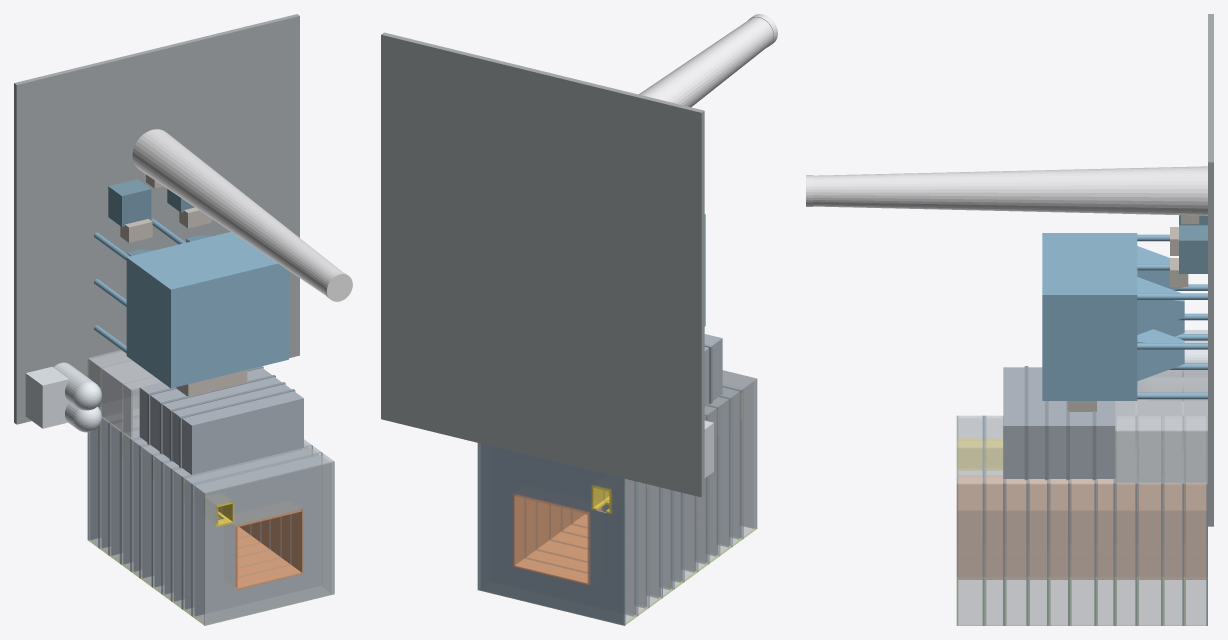
The model's file is bolier.glb.
The picture shows the model from 3 angles, left to right: view 1: azimuth 30°, elevation 25°; view 2: azimuth 150°, elevation 25°; view 3: azimuth 270°, elevation 25°; orthographic projection. The views are drawn at different scales.
Bounding box in the file's own units: 48 × 76.5 × 55.8.
